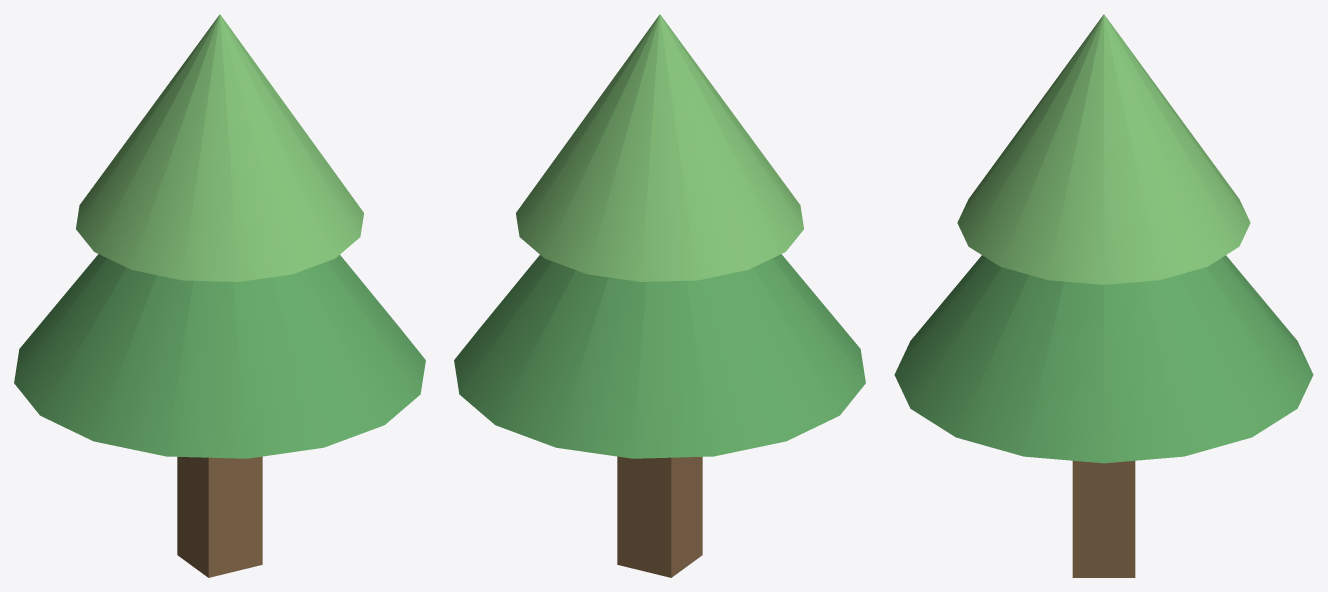
File: tree.gltf
3 renders of one model, left to right at view 1: azimuth 30°, elevation 25°; view 2: azimuth 150°, elevation 25°; view 3: azimuth 270°, elevation 25°, orthographic.
Parts seen in each view (by area): view 1: Canopy, Tree; view 2: Canopy, Tree; view 3: Canopy, Tree.
Part boxes in pixels (x1,y1,x2,y2): Canopy: (14,14,425,458); Tree: (177,456,262,577); Canopy: (454,14,865,458); Tree: (617,456,702,577); Canopy: (894,14,1313,463); Tree: (1072,460,1135,577).
Size of the model in its own units: 2 by 2.9 by 2.
